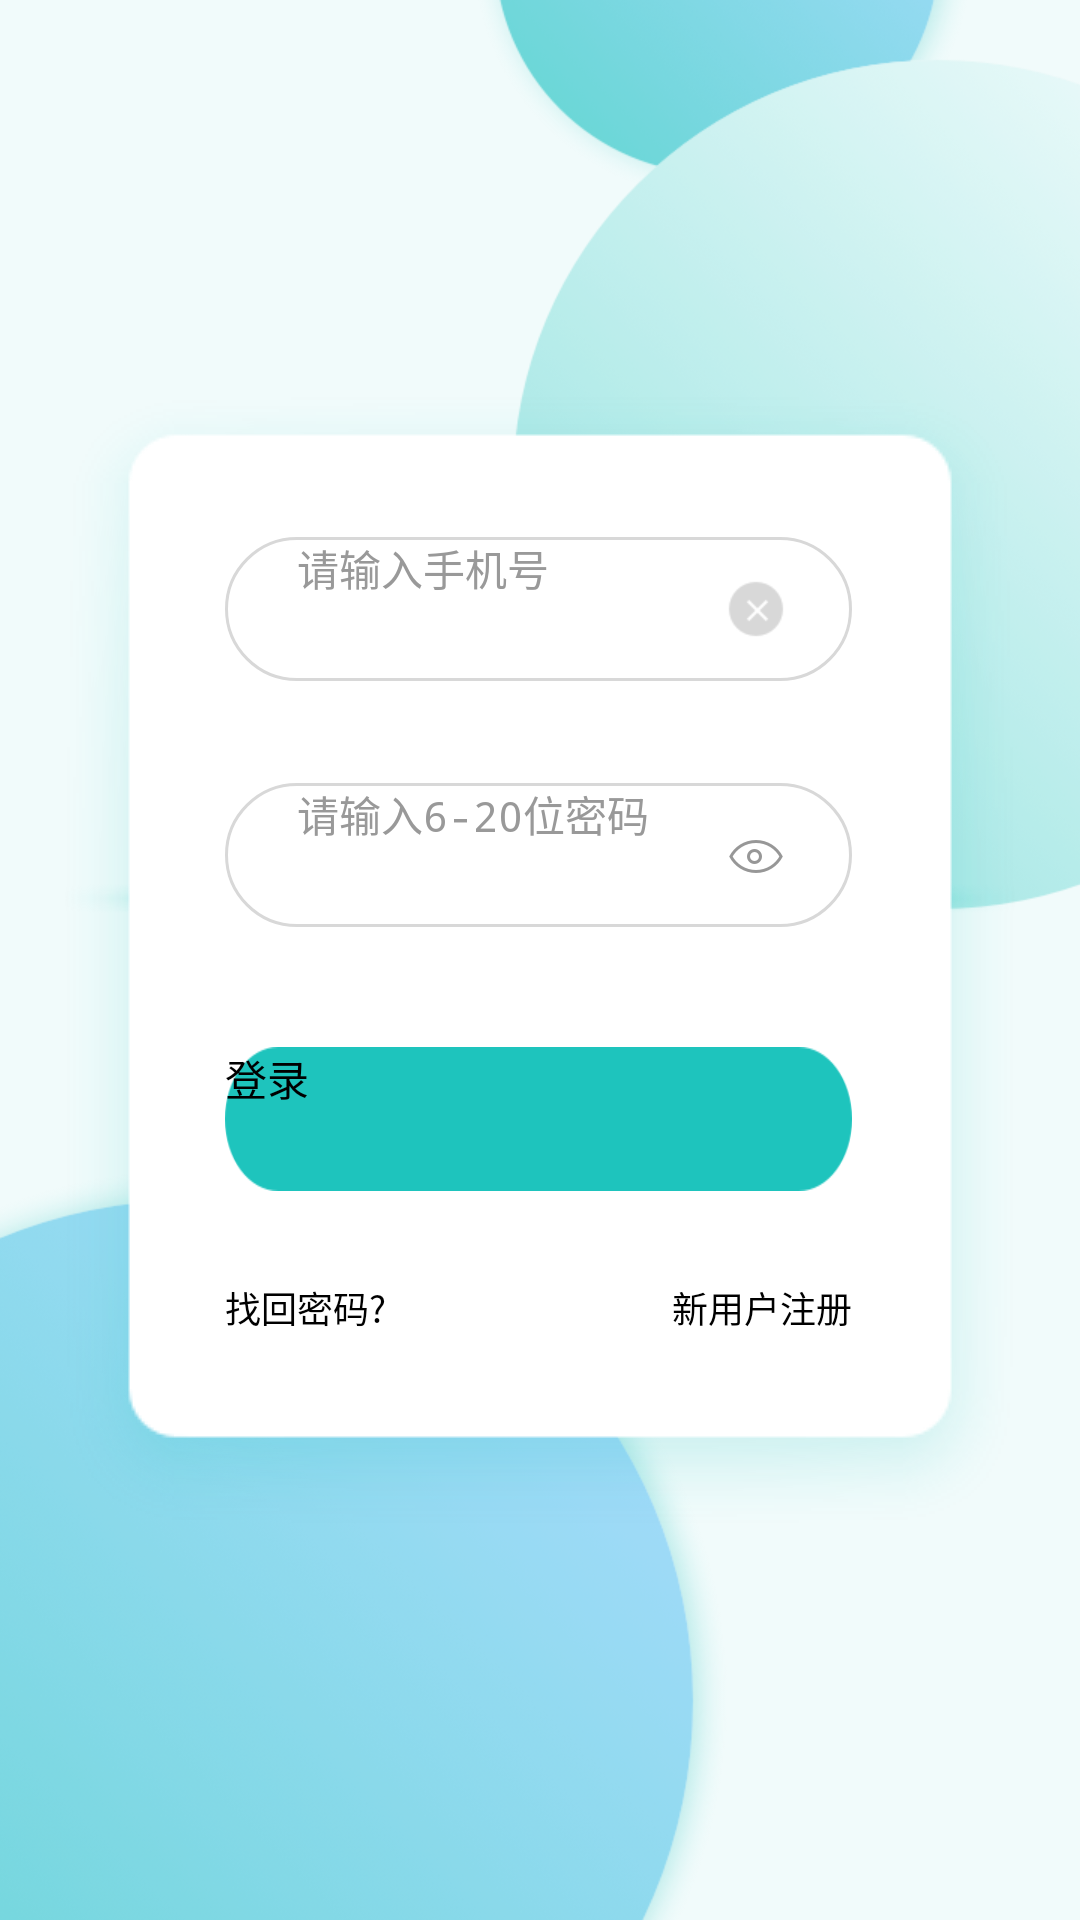

Icons on this 1080 x 1920 Android screen, each with its box as bbox(x1, y1, x2, y2):
dele: bbox(729, 582, 783, 636)
